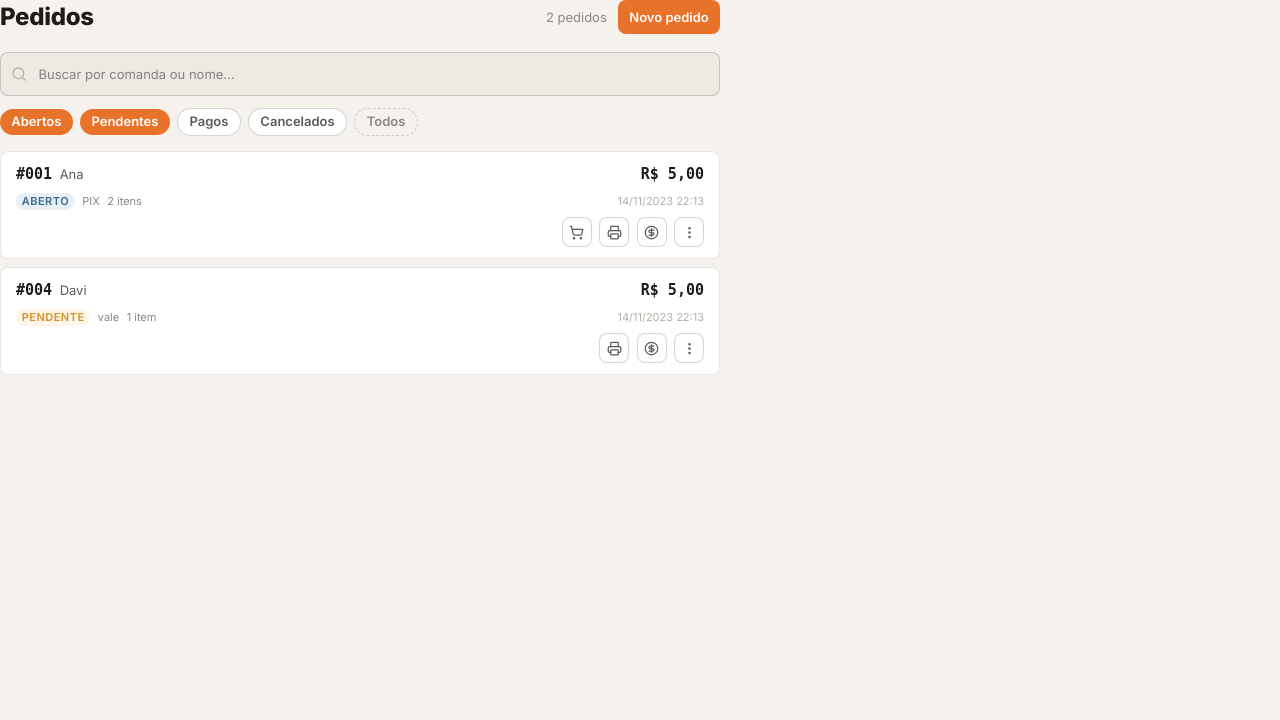
it: OrdersPage › closes the detail modal via the backdrop
Expected: the text "#001" is shown, 16,163 -> 52,185
Click the 1st button named "Mais ações" at (689, 232), box 674,217 -> 704,247
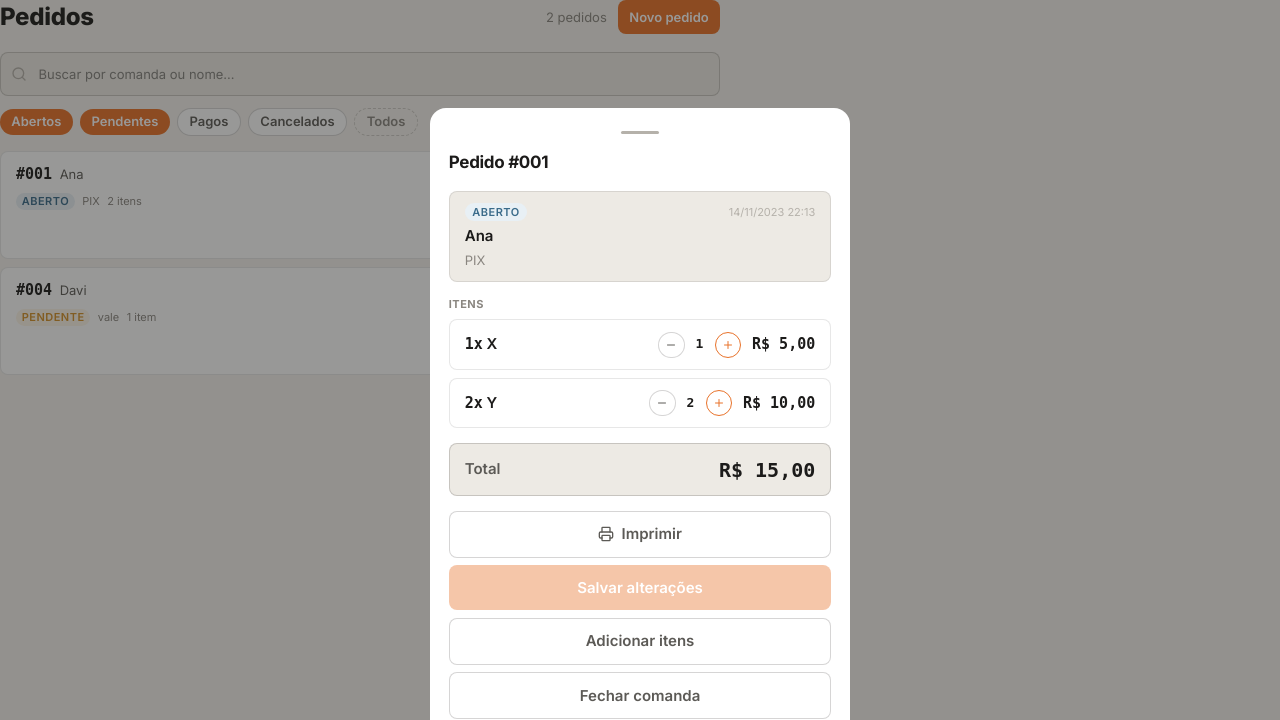
Result: the dialog is shown at 430,108 -> 850,719
Click the element that starts with "Pedido #001" at (77, 360), box 0,0 -> 1279,719
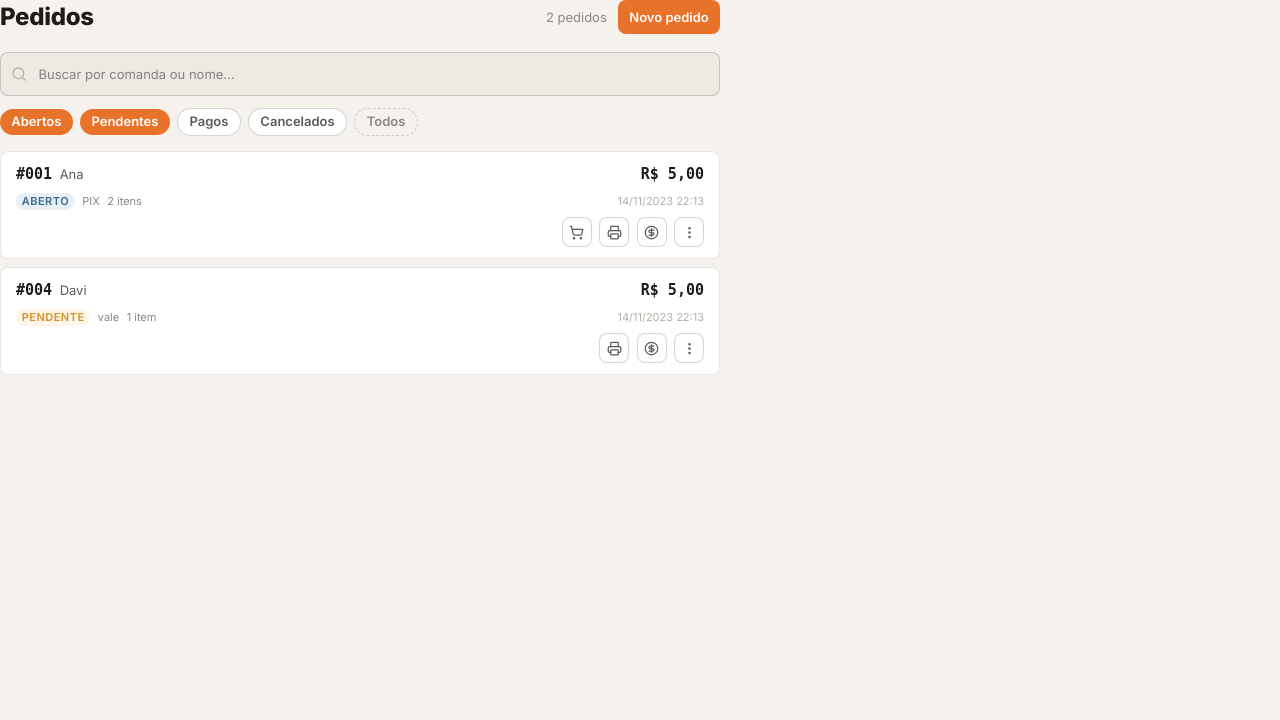
Result: the dialog is gone
